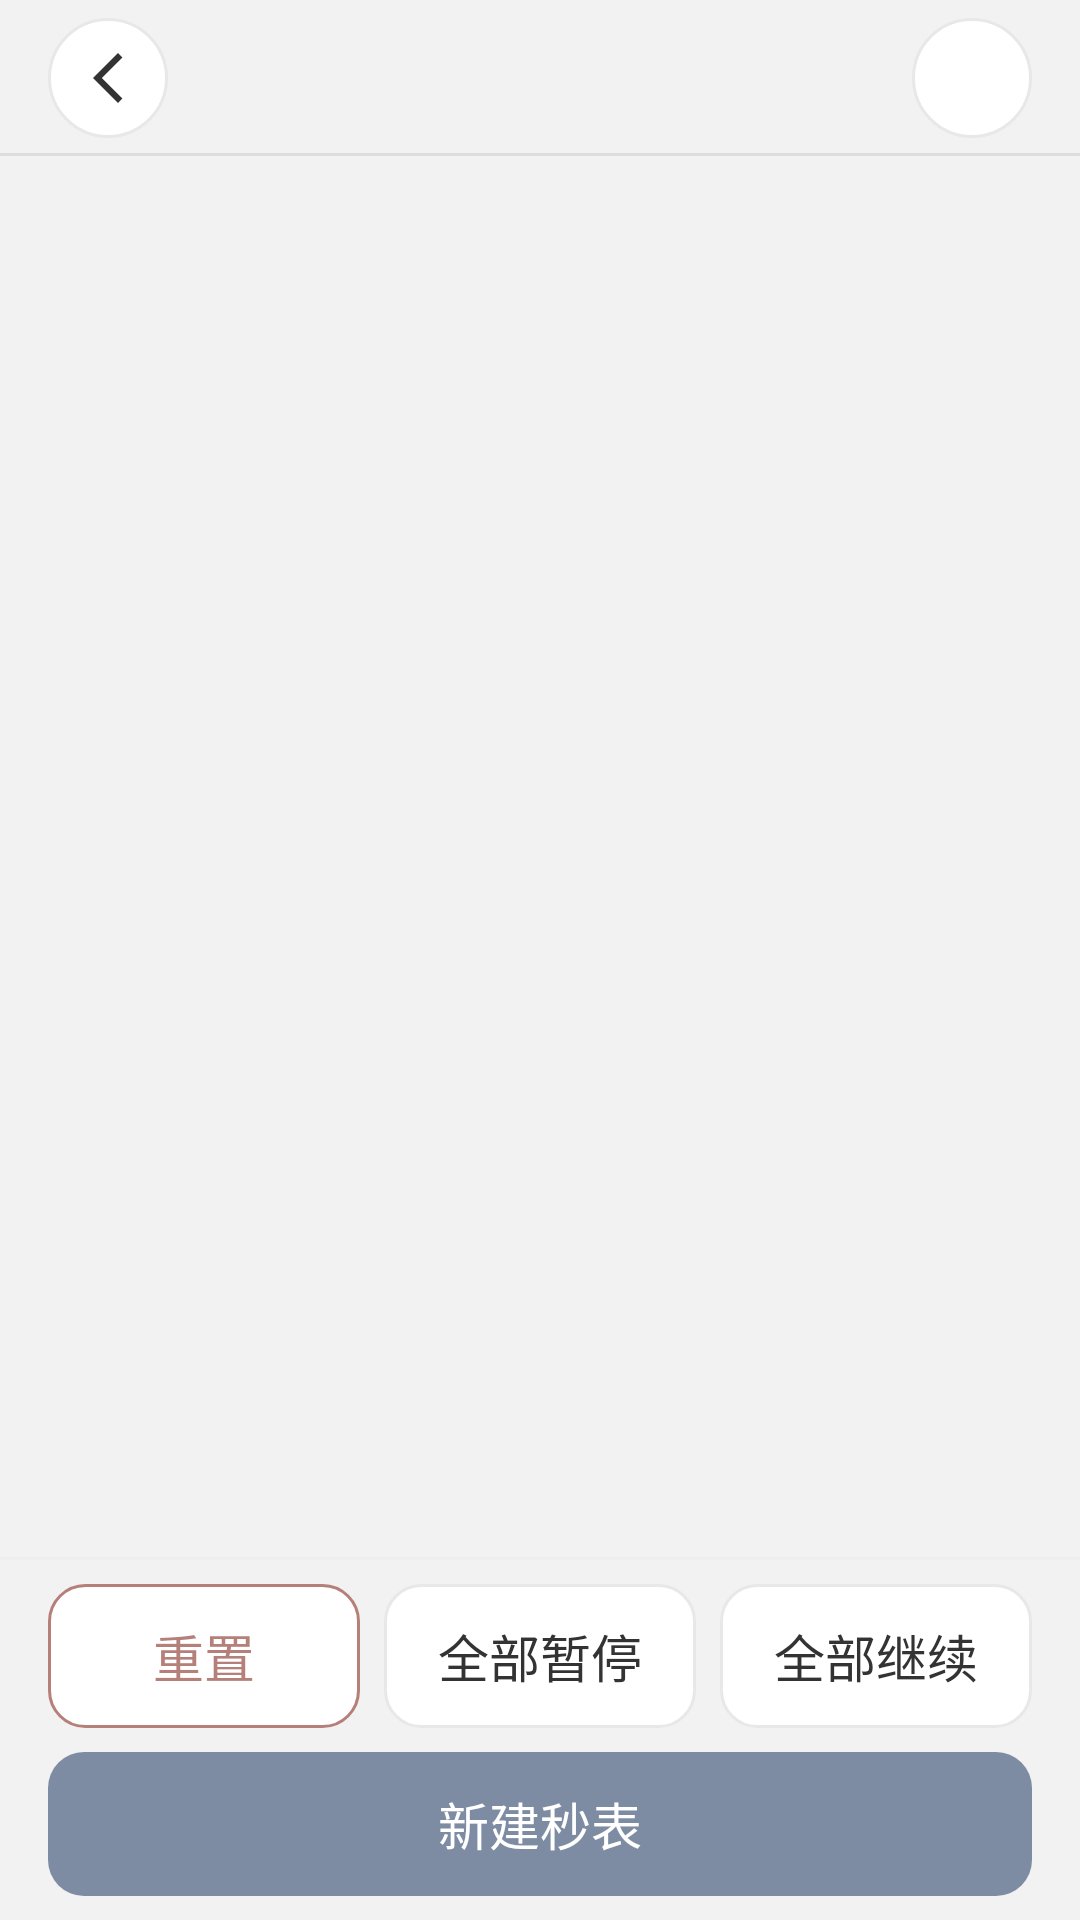

Screen size 1080×1920. Icon name, then its box in pixels as BBox(x1, y1, x2, y2):
返回: BBox(48, 18, 168, 138)
